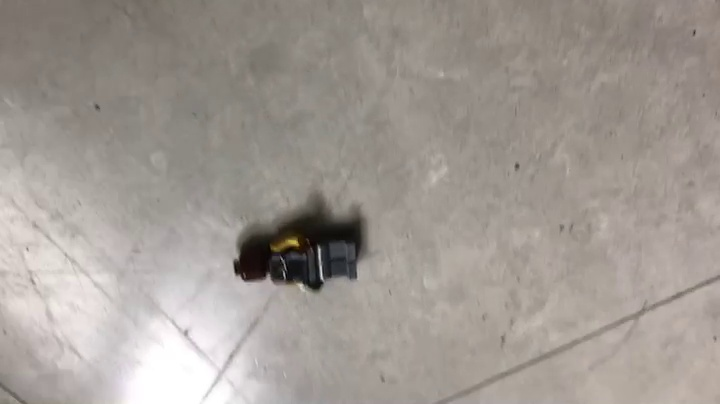people: (232, 229, 361, 294)
